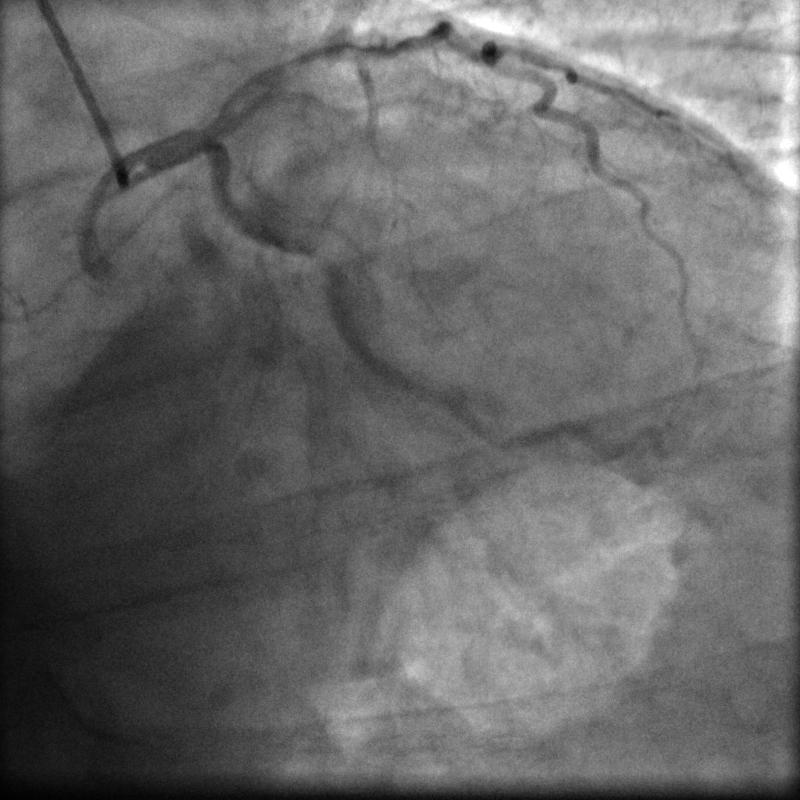Stenosis: (292, 236, 344, 275)
